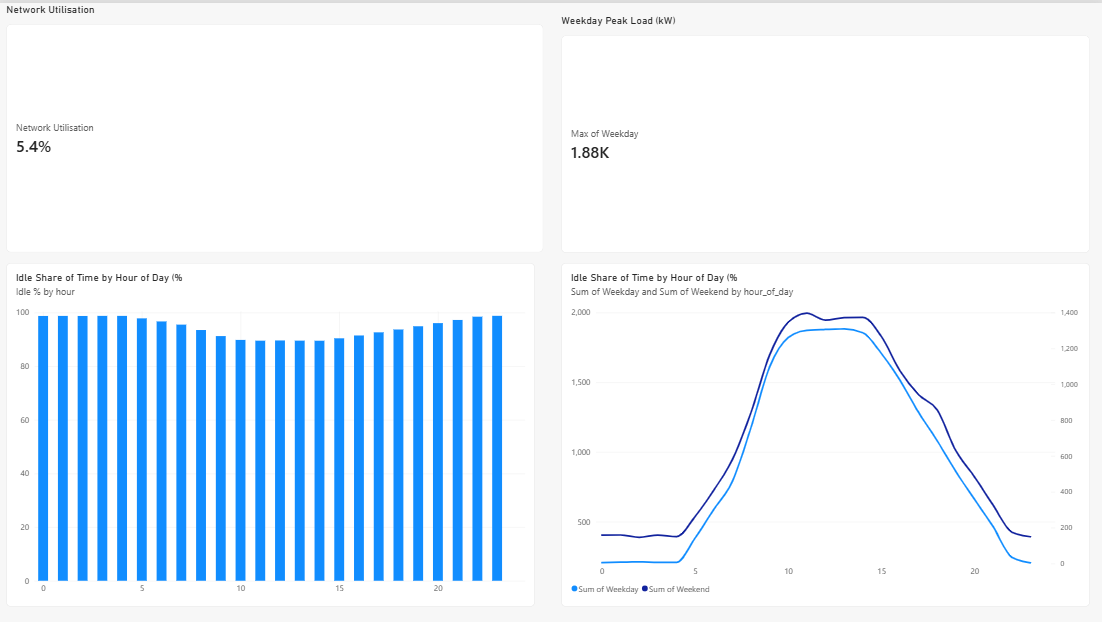

The dashboard page shown, as its layout file describes it:
{"tool":"powerbi","page":{"name":"Idle Time & Peak Load","canvas":[1920,1080],"ordinal":1},"visuals":[{"type":"cardVisual","title":"Network Utilisation","fields":{"Data":["charger_metrics.Network Utilisation"]},"box":[10.9,0,934.8,434.8],"z":0},{"type":"cardVisual","title":"Weekday Peak Load (kW)","fields":{"Data":["Max(network_load_by_hour_2024.Weekday)"]},"box":[976.1,19.6,919.6,415.2],"z":1},{"type":"clusteredColumnChart","title":"Idle Share of Time by Hour of Day (%","fields":{"Category":["utilisation_network_weekday_hour.hour"],"Y":["utilisation_network_weekday_hour.Idle %"]},"box":[10.9,452.2,919.6,597.8],"z":2},{"type":"lineChart","title":"Idle Share of Time by Hour of Day (%","fields":{"Category":["network_load_by_hour_2024.hour_of_day"],"Y":["Sum(network_load_by_hour_2024.Weekday)"],"Y2":["Sum(network_load_by_hour_2024.Weekend)"]},"box":[976.1,452.2,919.6,597.8],"z":3}]}

Visuals, with their boxes in screenshot pixels (x1, y1, x2, y2), scaled from the page's 1920x1080 canvas onto the 1102x622 screenshot:
"Network Utilisation" cardVisual: bbox=(6, 0, 543, 250)
"Weekday Peak Load (kW)" cardVisual: bbox=(560, 11, 1088, 250)
"Idle Share of Time by Hour of Day (%" clusteredColumnChart: bbox=(6, 260, 534, 605)
"Idle Share of Time by Hour of Day (%" lineChart: bbox=(560, 260, 1088, 605)
